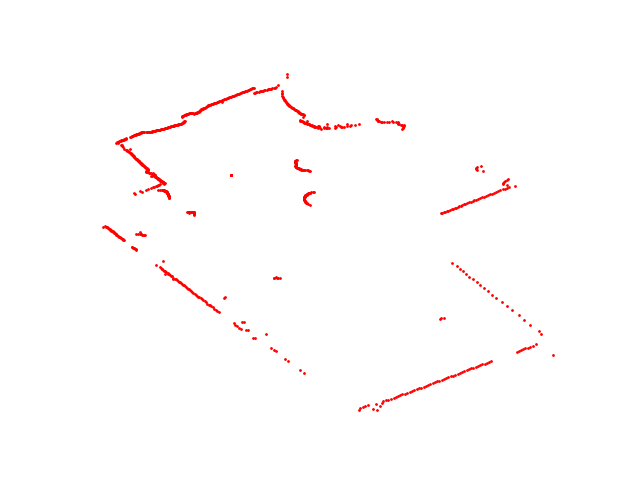person: (291, 157, 320, 208)
